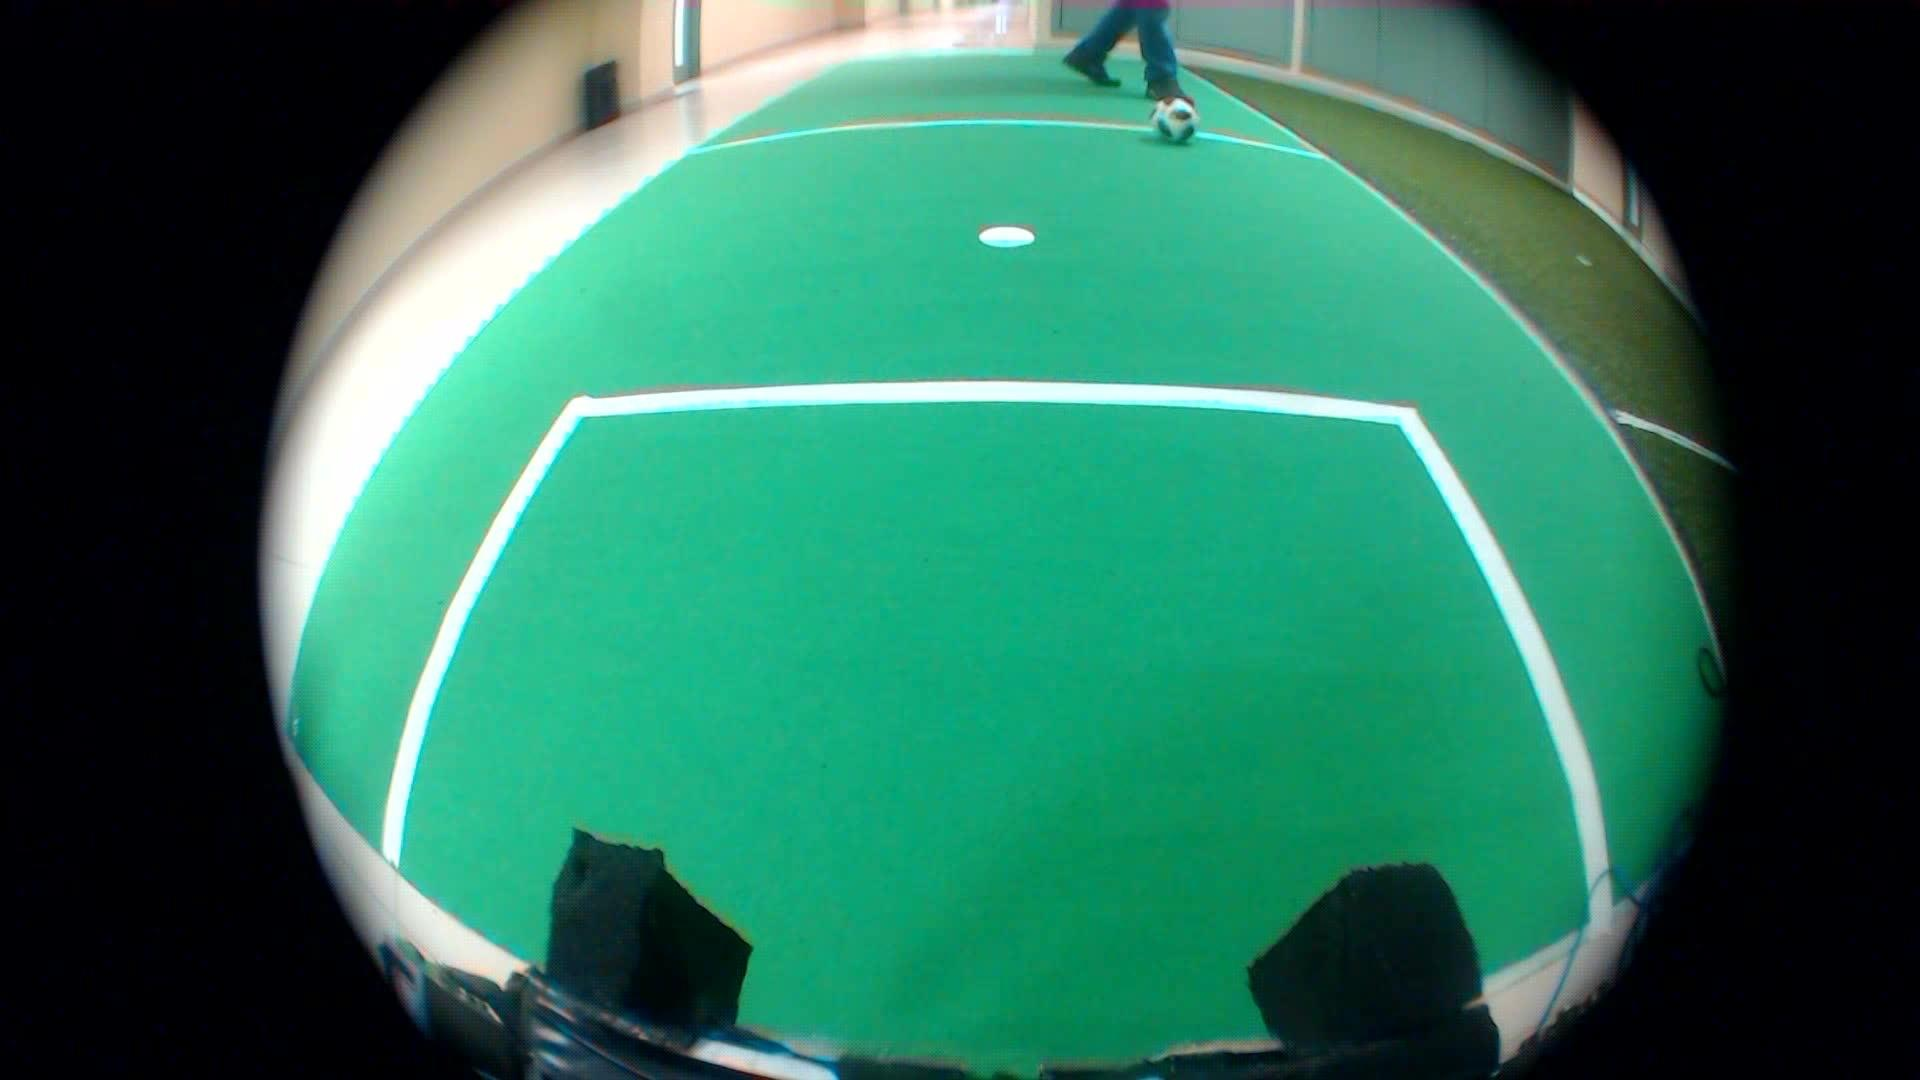ball: (1141, 88, 1199, 152)
